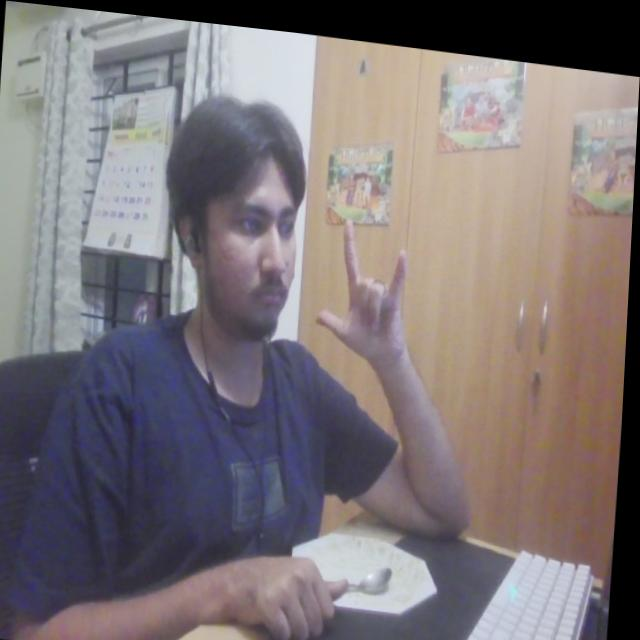iloveyou: (311, 200, 433, 367)
